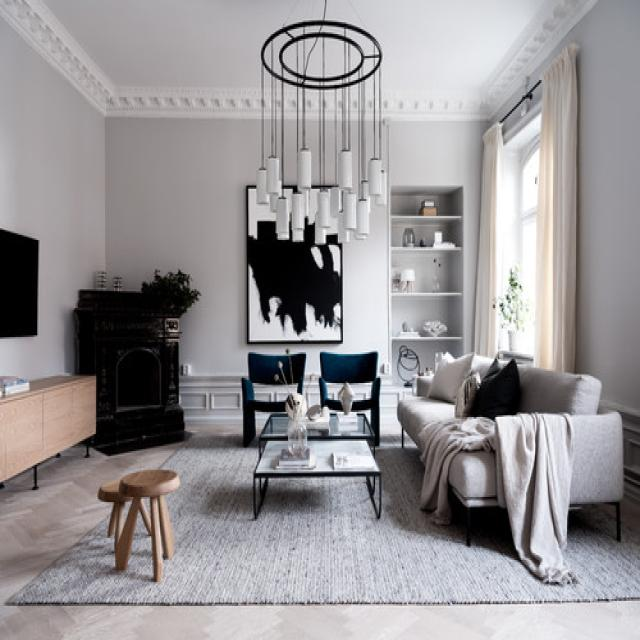modern desk: (251, 436, 384, 528)
modern shelf: (387, 170, 466, 346)
modern sofa: (395, 349, 627, 555)
